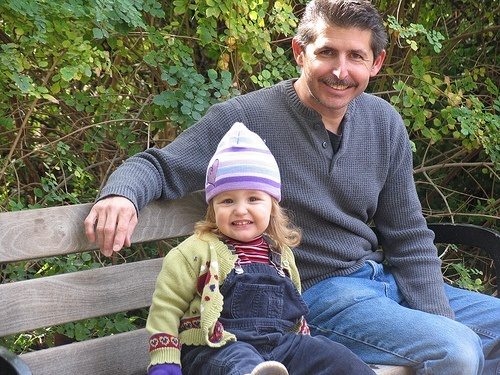head: (289, 1, 389, 112), (210, 143, 274, 248)
person: (74, 1, 475, 375), (144, 119, 376, 375)
